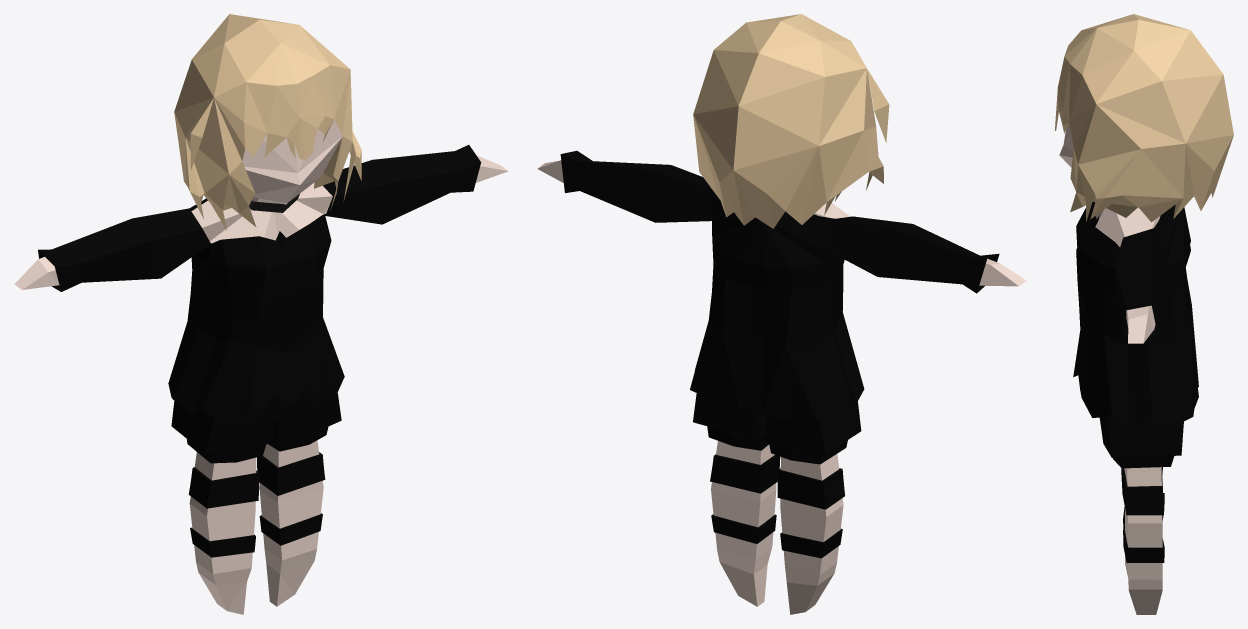
Rendered from Hatsune51.fbx.
The picture shows the model from 3 angles, left to right: view 1: azimuth 30°, elevation 25°; view 2: azimuth 150°, elevation 25°; view 3: azimuth 270°, elevation 25°; orthographic projection.
Parts seen in each view (by area): view 1: Cloth, Hair, Body, Pants, Uika.004; view 2: Cloth, Hair, Body, Pants, Uika.004; view 3: Hair, Cloth, Body, Pants, Uika.004.
Part boxes in pixels (left/top/right/bottom): Cloth: left=38, top=145, right=481, bottom=425; Hair: left=174, top=14, right=361, bottom=230; Body: left=14, top=119, right=508, bottom=614; Pants: left=171, top=393, right=341, bottom=463; Uika.004: left=188, top=452, right=325, bottom=557; Cloth: left=560, top=150, right=999, bottom=421; Hair: left=693, top=14, right=889, bottom=228; Body: left=537, top=160, right=1026, bottom=614; Pants: left=693, top=393, right=861, bottom=464; Uika.004: left=710, top=454, right=844, bottom=558; Hair: left=1055, top=14, right=1233, bottom=222; Cloth: left=1073, top=201, right=1198, bottom=425; Body: left=1059, top=122, right=1162, bottom=614; Pants: left=1099, top=416, right=1183, bottom=468; Uika.004: left=1121, top=467, right=1164, bottom=562.
Size of the model in its own units: 226 by 262 by 72.39.
